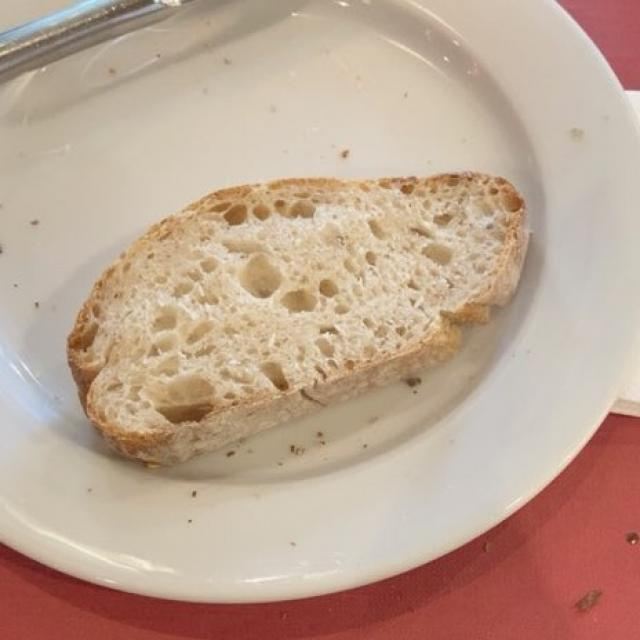bread: (70, 172, 525, 463)
